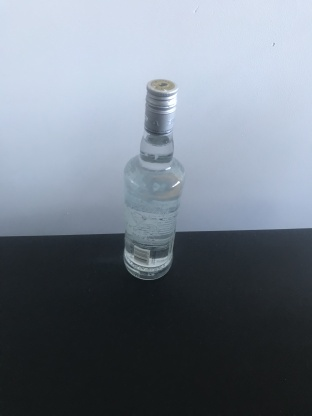nakretka: (143, 77, 178, 137)
